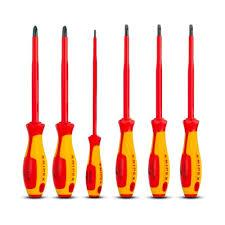screwdriver: (50, 24, 76, 197), (22, 24, 47, 197), (178, 23, 202, 198), (147, 22, 169, 198), (115, 23, 137, 197), (84, 27, 103, 197)
